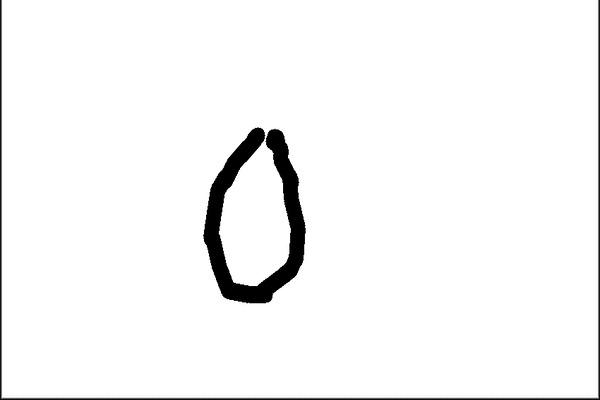O: (180, 121, 330, 311)
